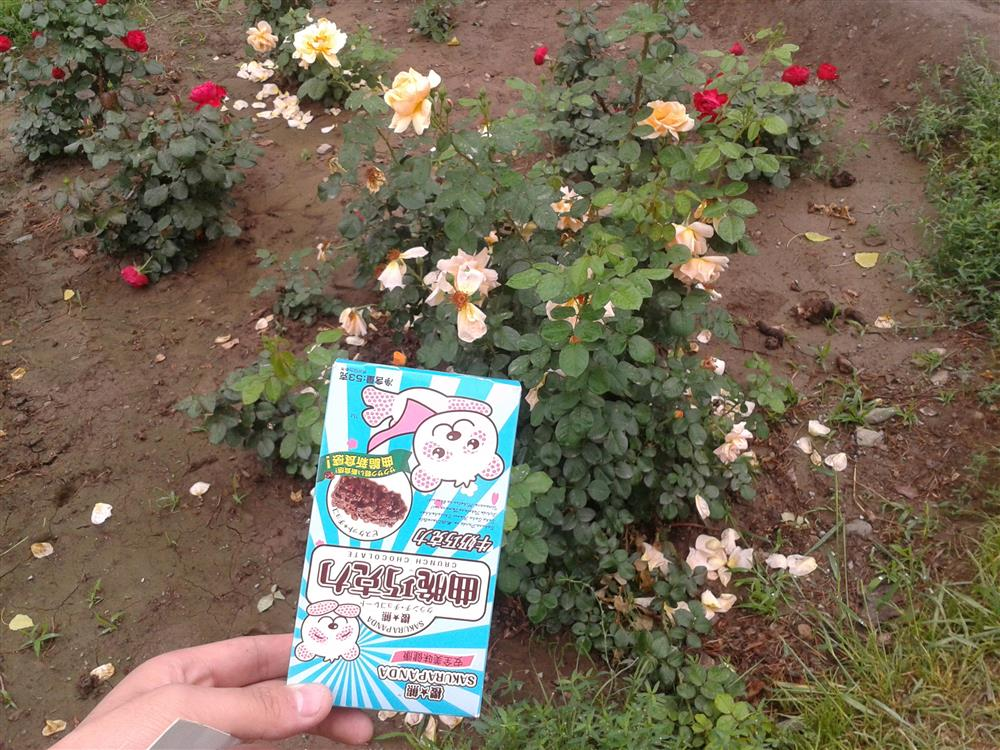crunch: (269, 352, 530, 724)
